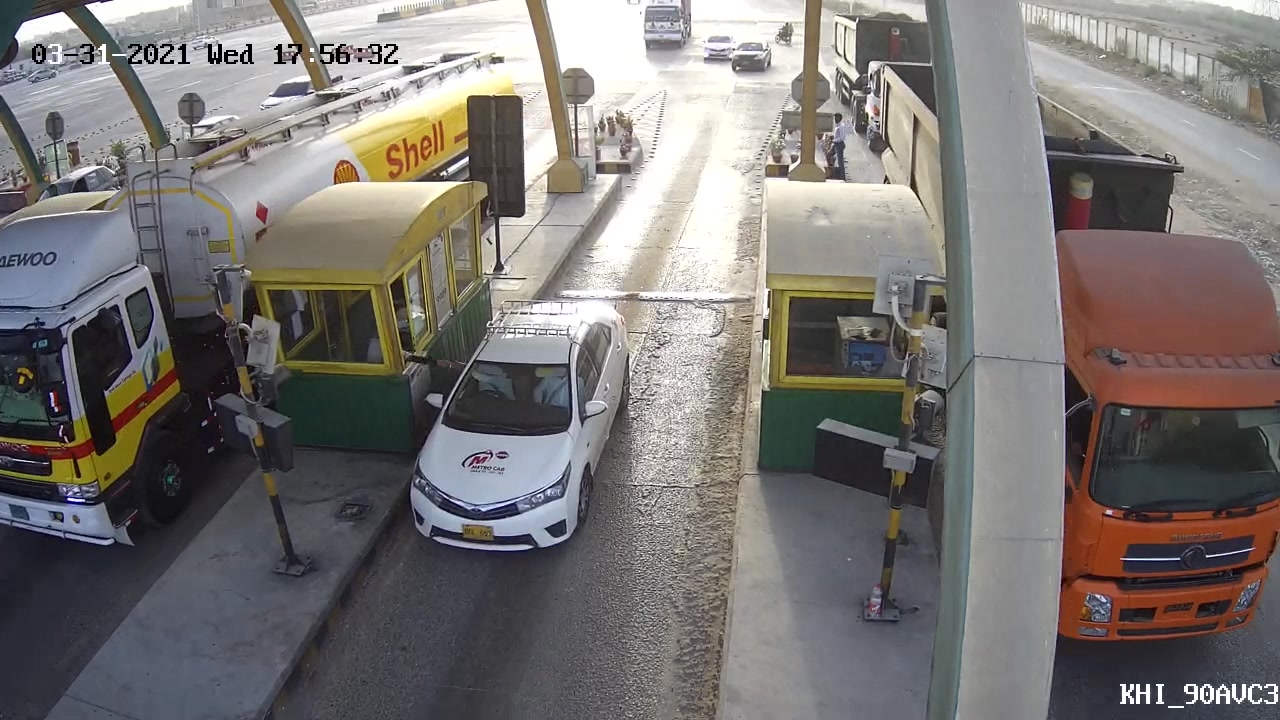F1: (404, 291, 635, 558)
